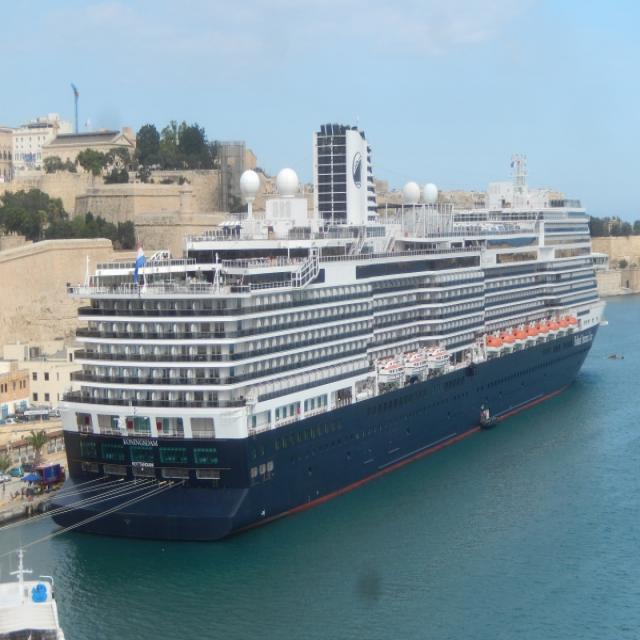cruises: (51, 112, 611, 550)
